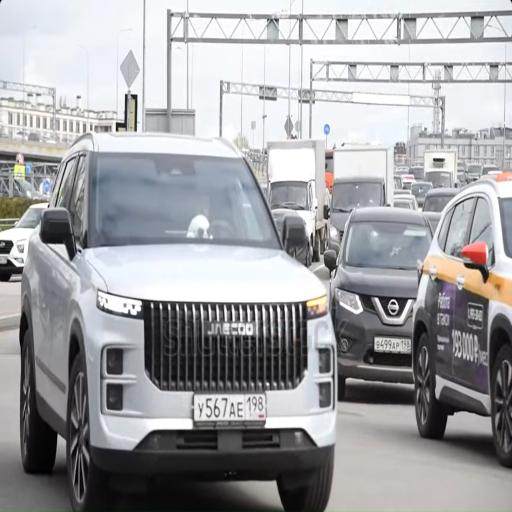License plates: (194, 394, 266, 424), (374, 336, 411, 354), (0, 256, 7, 265)
